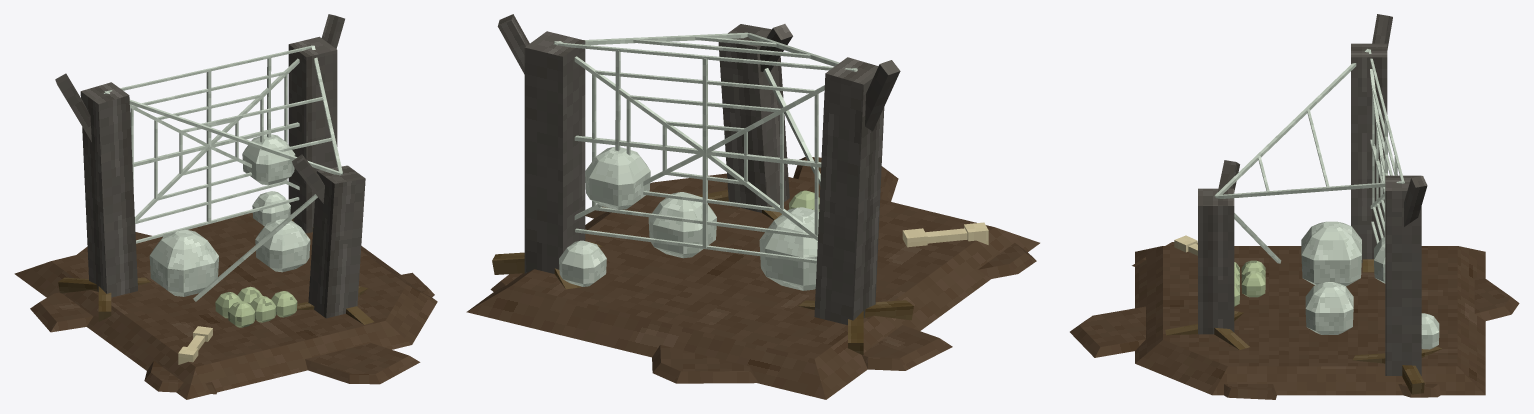
The model's file is giant_spider_lair_v2.glb.
3 renders of one model, left to right at view 1: azimuth 30°, elevation 25°; view 2: azimuth 150°, elevation 25°; view 3: azimuth 270°, elevation 25°, orthographic. The views are drawn at different scales.
Parts seen in each view (by area): view 1: Model; view 2: Model; view 3: Model.
Boxes of the visible parts, left/top/right/bottom form: Model: left=14, top=14, right=437, bottom=399; Model: left=466, top=14, right=1039, bottom=399; Model: left=1070, top=14, right=1519, bottom=399.
Size of the model in its own units: 1.24 by 0.8266 by 1.42.
Materials: 1 (1 with a texture image).
